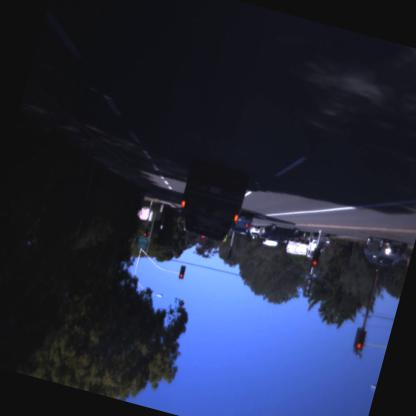trafficlight: (348, 322, 370, 354), (135, 214, 157, 244), (306, 246, 324, 270), (174, 262, 188, 284)
